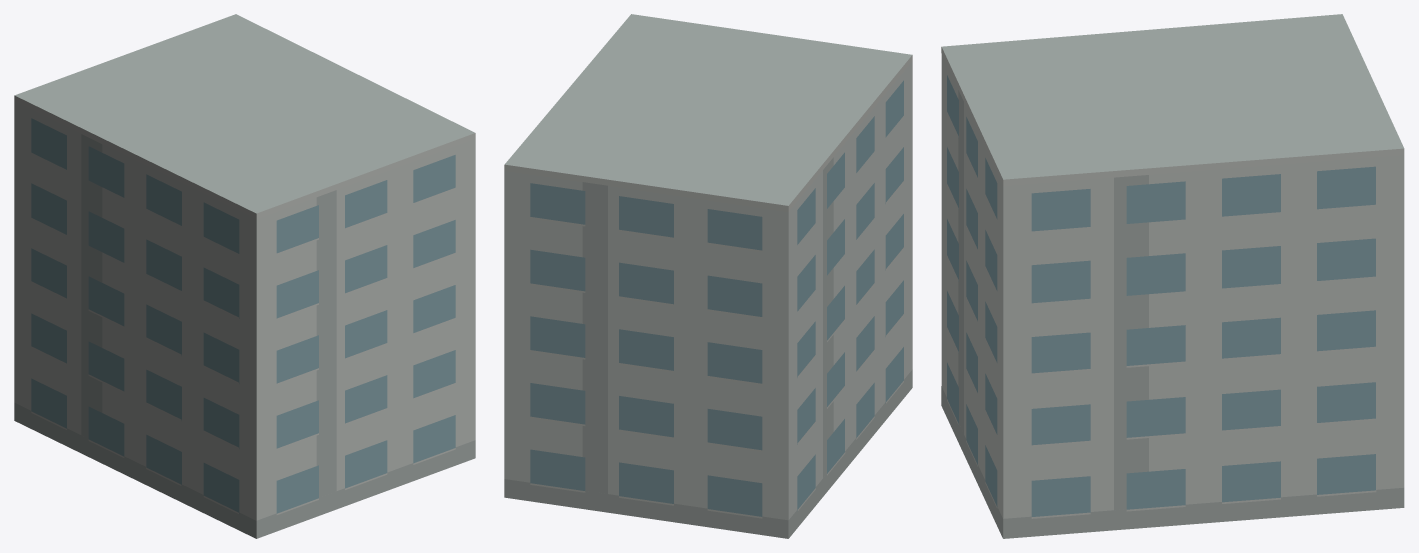
File: survey-upis-32882729.glb
3 views of the same model, side by side, from view 1: azimuth 30°, elevation 25°; view 2: azimuth 150°, elevation 25°; view 3: azimuth 270°, elevation 25° (orthographic). The views are drawn at different scales.
Parts seen in each view (by area): view 1: survey-upis-32882729.tmp; view 2: survey-upis-32882729.tmp; view 3: survey-upis-32882729.tmp.
Boxes of the visible parts, bbox=[...] form: survey-upis-32882729.tmp: bbox=[14, 14, 475, 538]; survey-upis-32882729.tmp: bbox=[504, 14, 912, 538]; survey-upis-32882729.tmp: bbox=[941, 14, 1404, 538].
Size of the model in its own units: 13.21 by 13.35 by 15.6.
